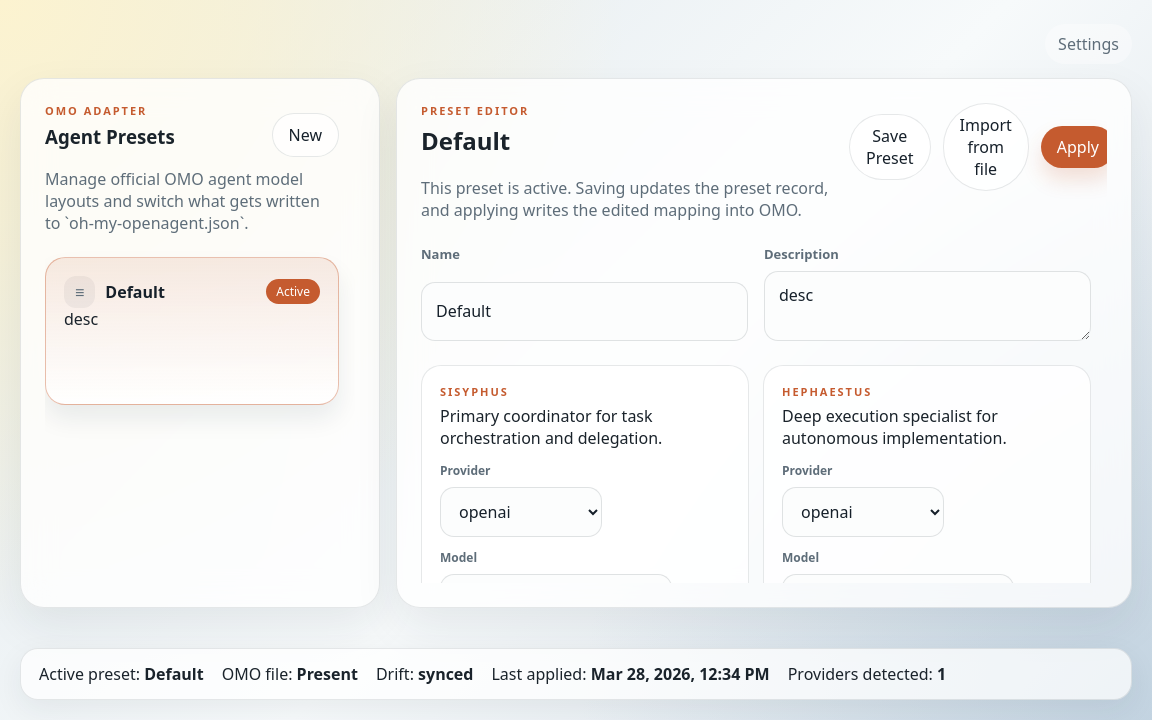
Test: App › switches the UI language from settings and keeps agent names in English
What coordinates should you click on to do the following:
click the button "Settings"
I would click on:
 (1089, 44)
Its box is [1045,24,1132,64].
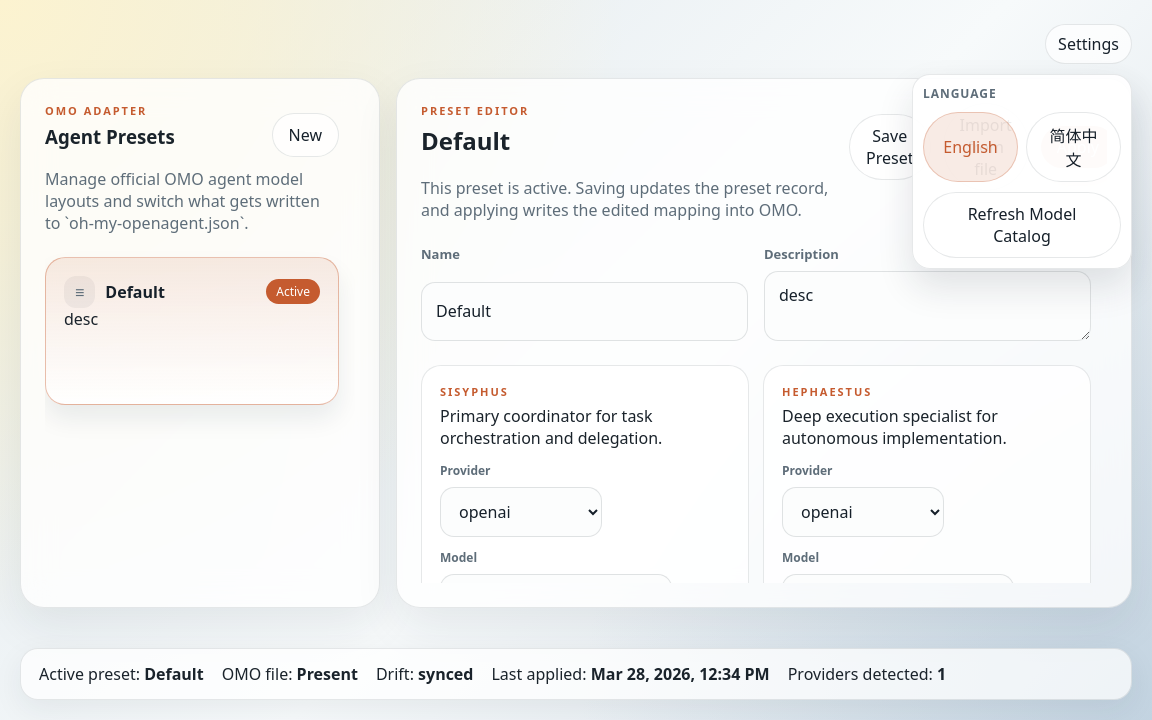
What coordinates should you click on to do the following:
click the button "简体中文"
I would click on:
 (1074, 147)
Its box is [1026,112,1121,182].
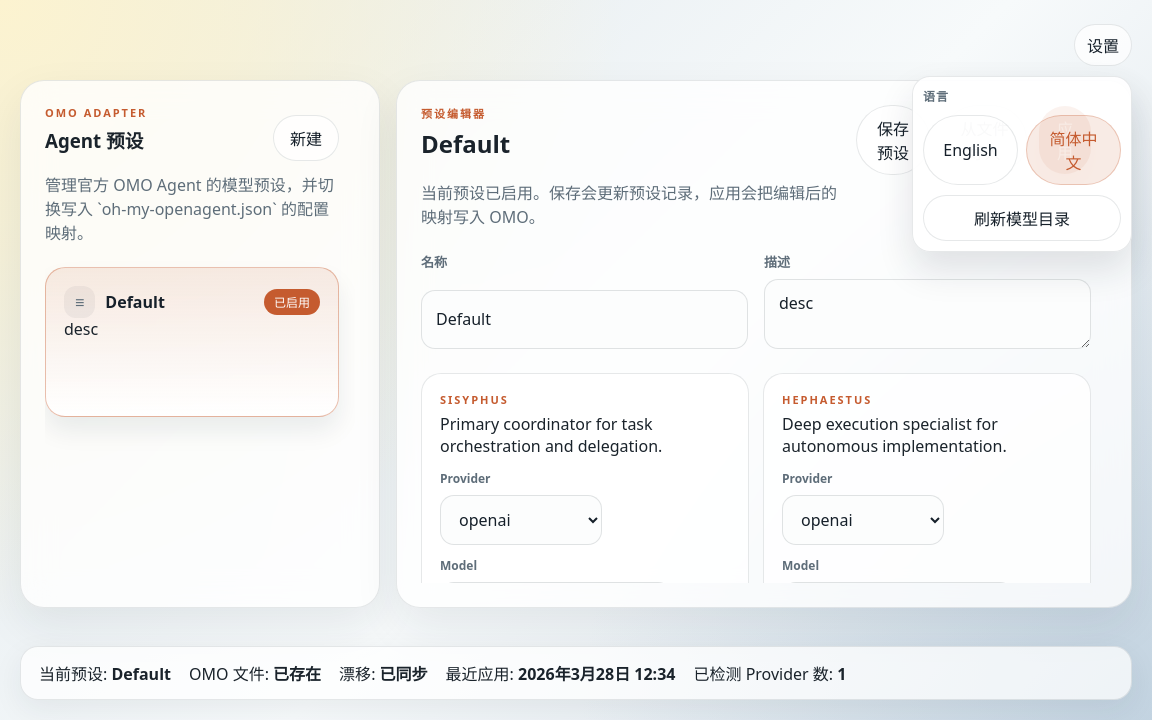
Check: the text "Sisyphus" is shown, box [440,392,509,407]
Check: the button "设置" is shown, box [1074,24,1132,66]
